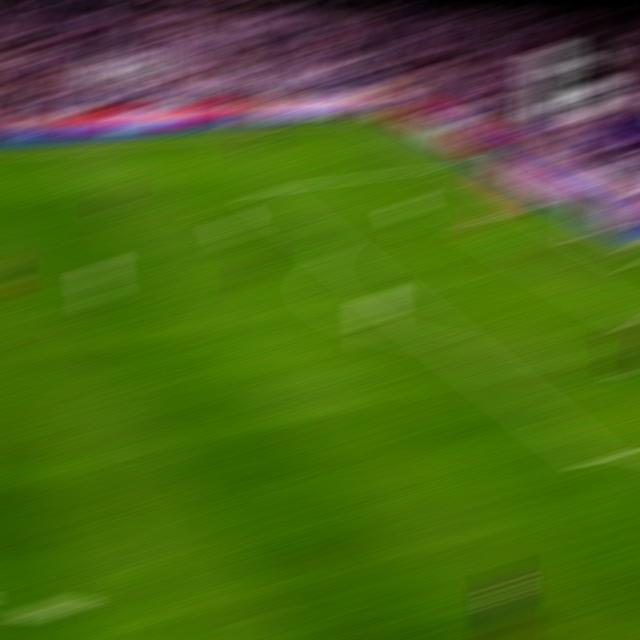bigarea_bottom_inner: (581, 448, 610, 469)
bigarea_top_inner: (247, 183, 273, 196)
bigarea_top_outter: (440, 158, 466, 168)
bottom_arc_area_intersection: (432, 331, 462, 350)
corner: (359, 116, 387, 122)
smallarea_top_inner: (456, 213, 484, 225)
top_arc_area_intersection: (320, 242, 348, 257)
